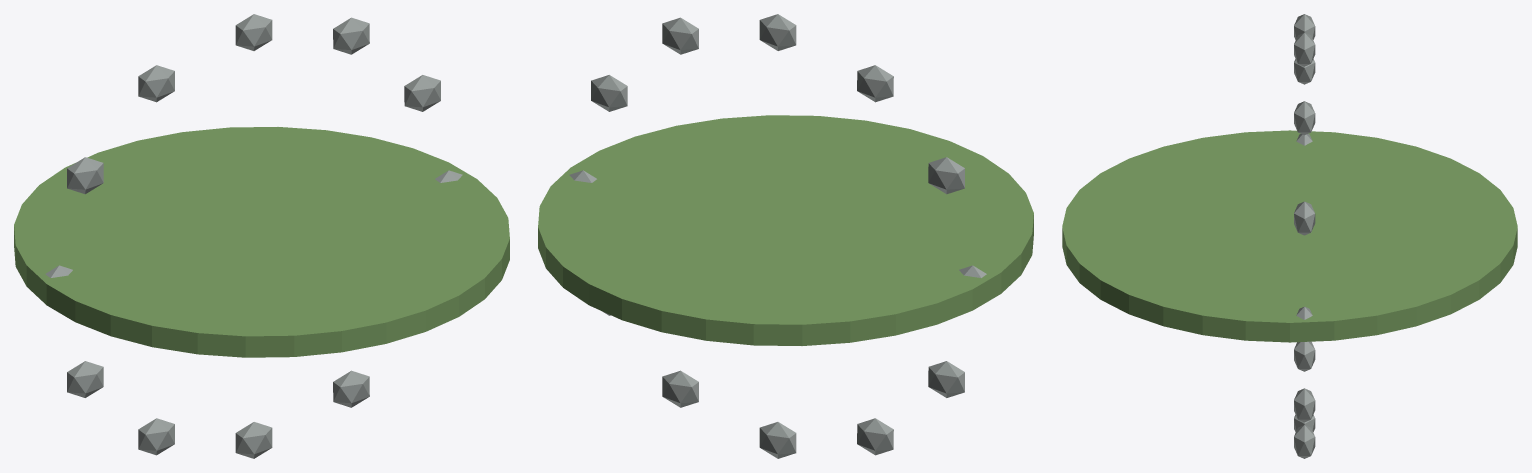
The model's file is atlas_pond.glb.
3 views of the same model, side by side, from view 1: azimuth 30°, elevation 25°; view 2: azimuth 150°, elevation 25°; view 3: azimuth 270°, elevation 25° (orthographic). The views are drawn at different scales.
Parts seen in each view (by area): view 1: Pond_Bank, Pond_Rim_Stone.003, Pond_Rim_Stone.009, Pond_Rim_Stone.002, Pond_Rim_Stone.004, Pond_Rim_Stone.005, Pond_Rim_Stone.008, Pond_Rim_Stone.010, Pond_Rim_Stone.007, Pond_Rim_Stone.001; view 2: Pond_Bank, Pond_Rim_Stone.003, Pond_Rim_Stone.009, Pond_Rim_Stone.005, Pond_Rim_Stone.008, Pond_Rim_Stone.010, Pond_Rim_Stone.002, Pond_Rim_Stone.004, Pond_Rim_Stone.001, Pond_Rim_Stone.007; view 3: Pond_Bank, Pond_Rim_Stone.001, Pond_Rim_Stone.011, Pond_Rim_Stone.003, Pond_Rim_Stone.002, Pond_Rim_Stone.010, Pond_Rim_Stone.008.
Boxes of the visible parts, box(x1,y1,x2,y2) form: Pond_Bank: box(14, 127, 509, 357); Pond_Rim_Stone.003: box(235, 14, 272, 50); Pond_Rim_Stone.009: box(235, 422, 272, 458); Pond_Rim_Stone.002: box(333, 17, 369, 54); Pond_Rim_Stone.004: box(138, 65, 174, 102); Pond_Rim_Stone.005: box(67, 157, 103, 194); Pond_Rim_Stone.008: box(138, 418, 174, 455); Pond_Rim_Stone.010: box(333, 370, 369, 407); Pond_Rim_Stone.007: box(67, 361, 103, 397); Pond_Rim_Stone.001: box(404, 75, 440, 111); Pond_Bank: box(538, 115, 1033, 345); Pond_Rim_Stone.003: box(759, 14, 796, 50); Pond_Rim_Stone.009: box(759, 422, 796, 458); Pond_Rim_Stone.005: box(928, 157, 964, 194); Pond_Rim_Stone.008: box(857, 418, 893, 455); Pond_Rim_Stone.010: box(662, 370, 698, 407); Pond_Rim_Stone.002: box(662, 17, 698, 54); Pond_Rim_Stone.004: box(857, 65, 893, 102); Pond_Rim_Stone.001: box(591, 75, 627, 111); Pond_Rim_Stone.007: box(928, 361, 964, 397); Pond_Bank: box(1062, 130, 1517, 342); Pond_Rim_Stone.001: box(1294, 201, 1315, 235); Pond_Rim_Stone.011: box(1294, 388, 1315, 422); Pond_Rim_Stone.003: box(1294, 32, 1315, 66); Pond_Rim_Stone.002: box(1294, 101, 1315, 135); Pond_Rim_Stone.010: box(1294, 425, 1315, 458); Pond_Rim_Stone.008: box(1294, 341, 1315, 371).
Size of the model in its own units: 11.6 by 11.46 by 11.6.
